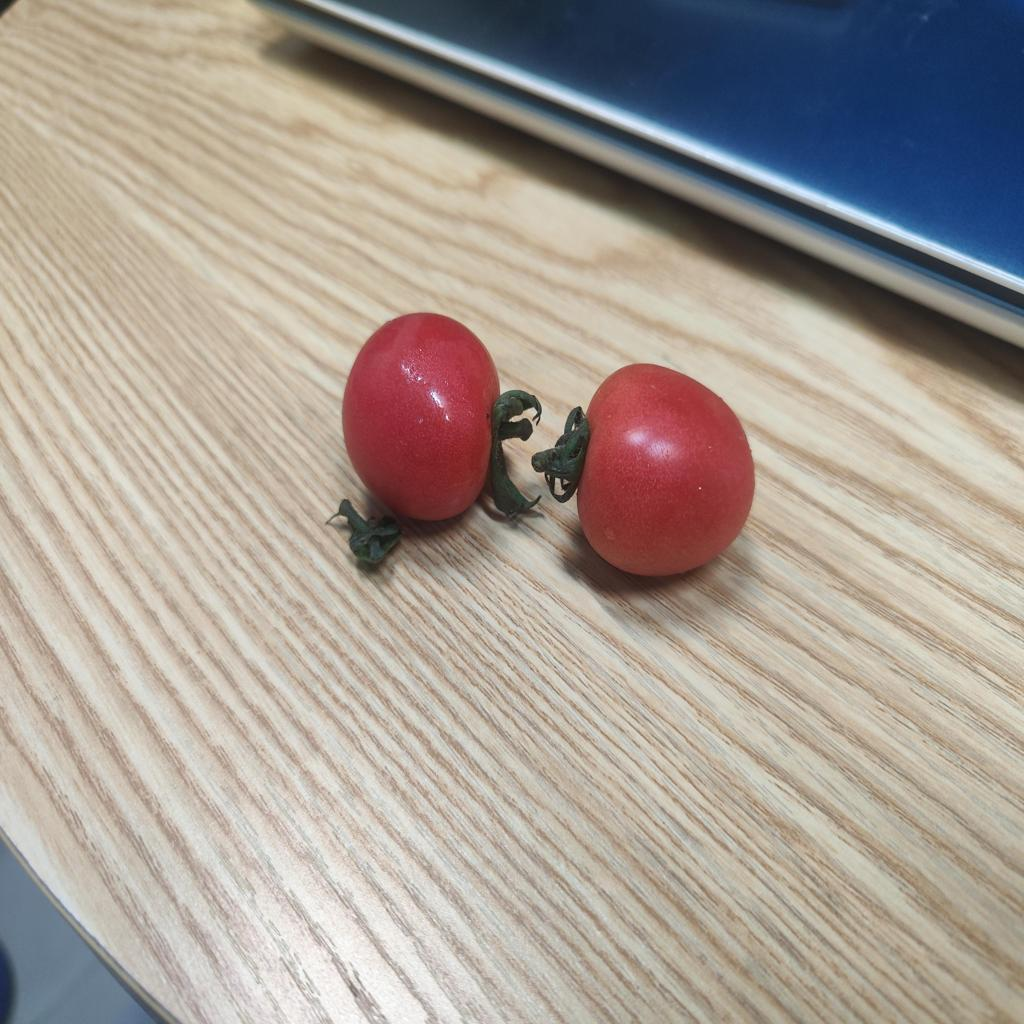tomato: (565, 361, 769, 583), (344, 314, 500, 519)
